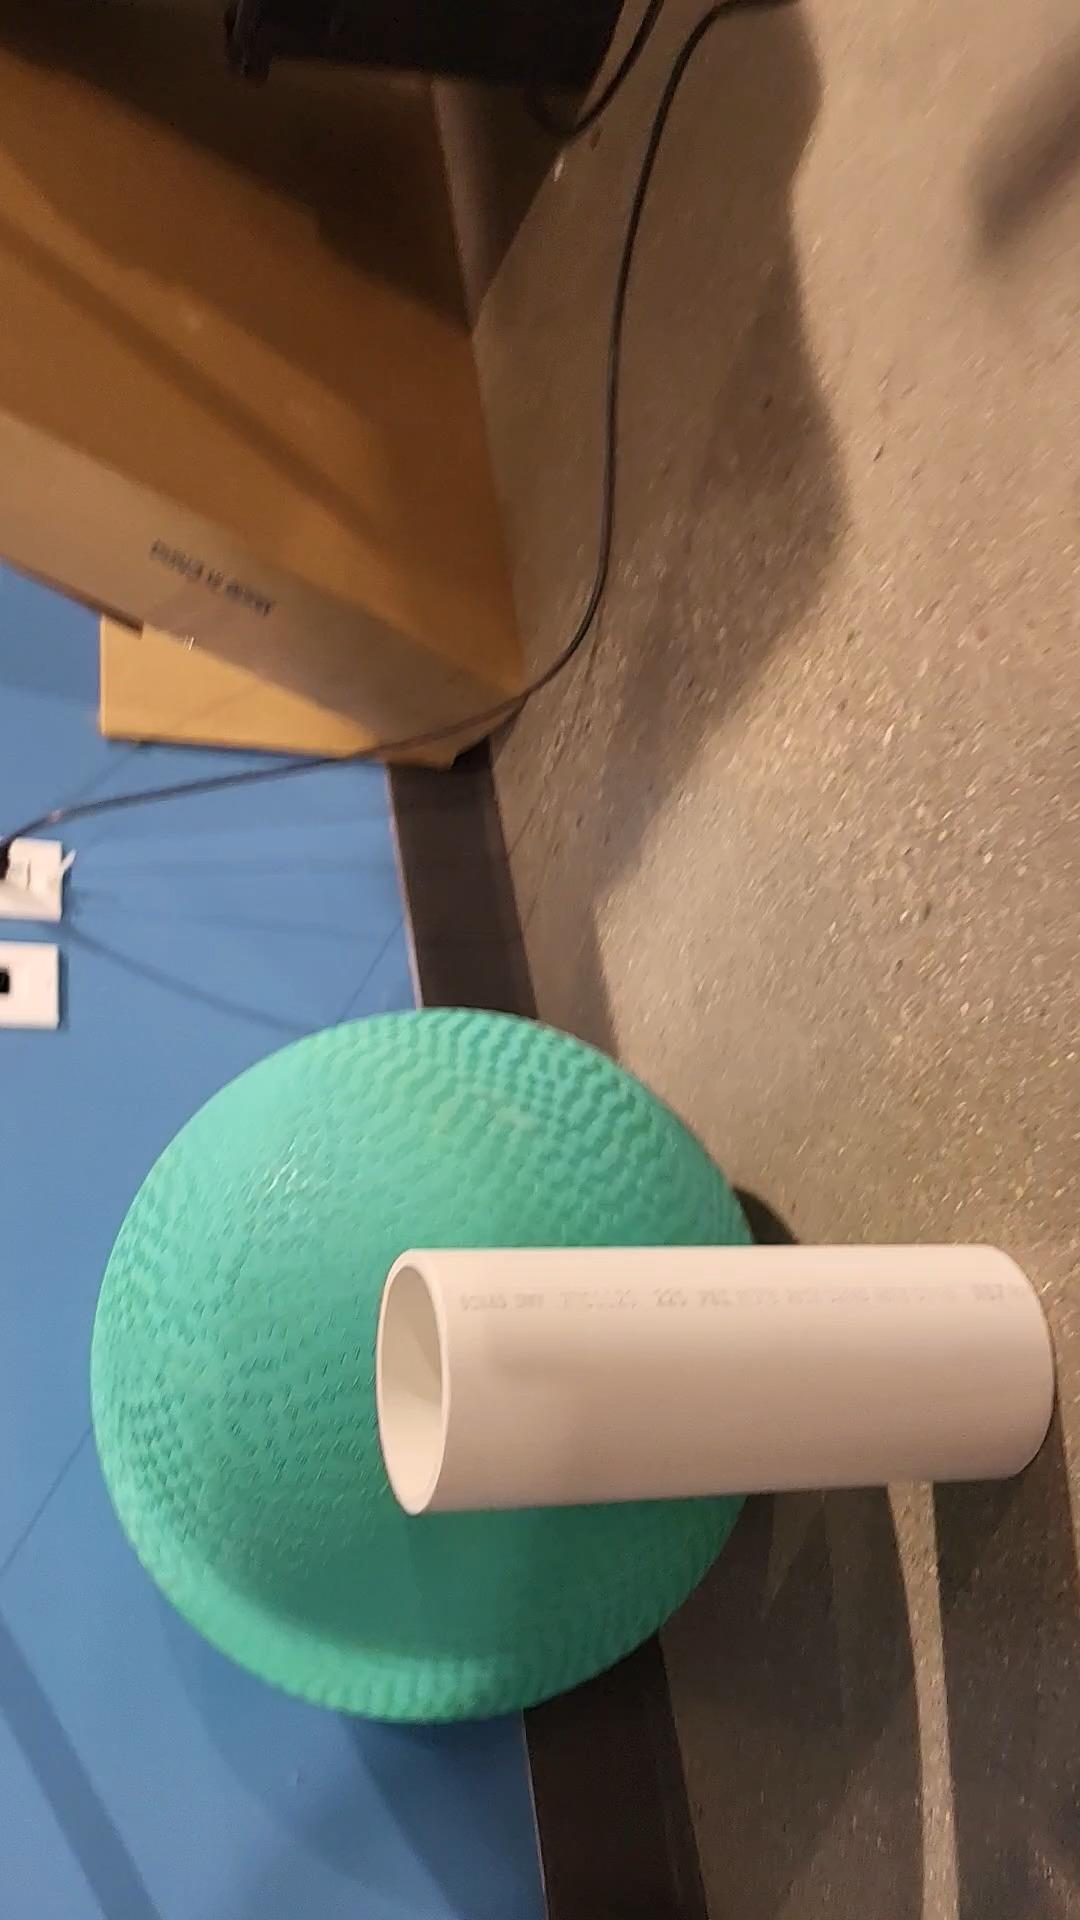algae: (92, 1015, 765, 1717)
coral: (382, 1245, 1058, 1513)
